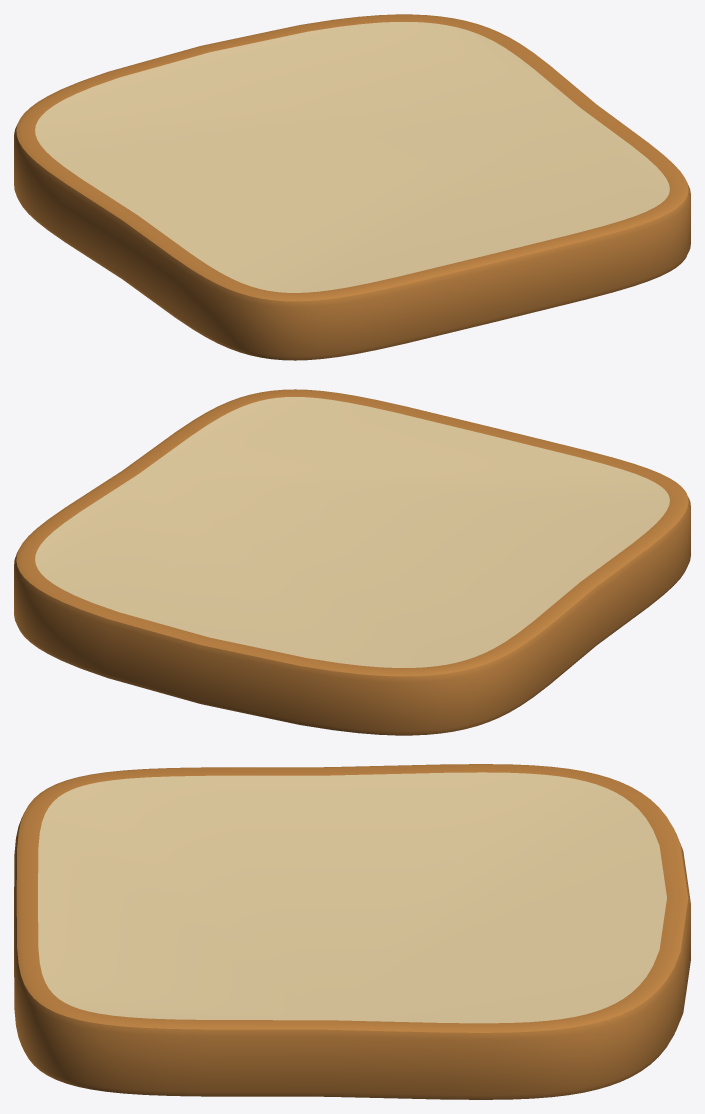
Rendered from Bread_Slice.fbx.
The picture shows the model from 3 angles, top to bottom: view 1: azimuth 30°, elevation 25°; view 2: azimuth 150°, elevation 25°; view 3: azimuth 270°, elevation 25°; orthographic projection. The views are drawn at different scales.
Parts seen in each view (by area): view 1: Bread_Slice; view 2: Bread_Slice; view 3: Bread_Slice.
Boxes of the visible parts, box(x1,y1,x2,y2) form: Bread_Slice: box(14, 14, 690, 360); Bread_Slice: box(14, 389, 690, 735); Bread_Slice: box(14, 764, 690, 1099).
Size of the model in its own units: 0.1126 by 0.0137 by 0.1188.
